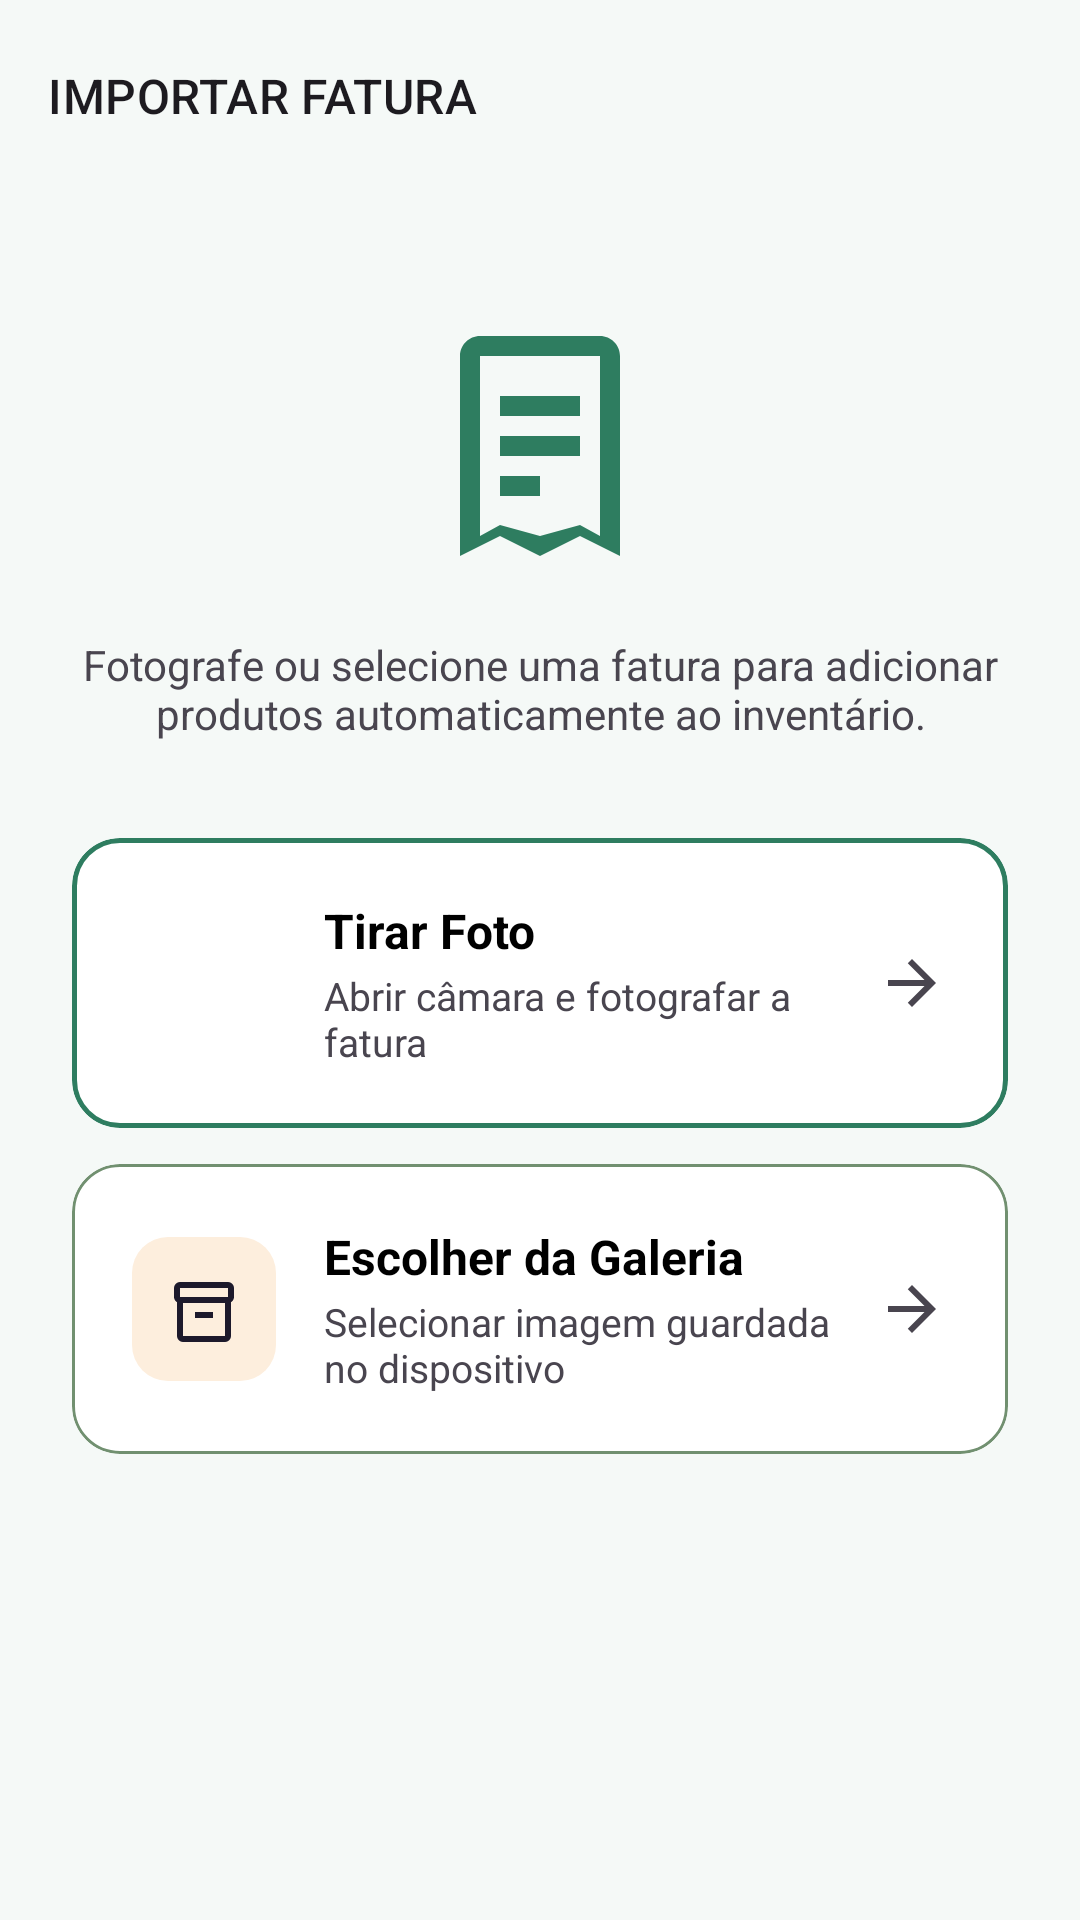

Icon click points for this 1080*1920 phone screenshot, format (x,y):
arrow forward: (912,983), (912,1309)
inventory: (204,1309)
receipt: (540,446)
